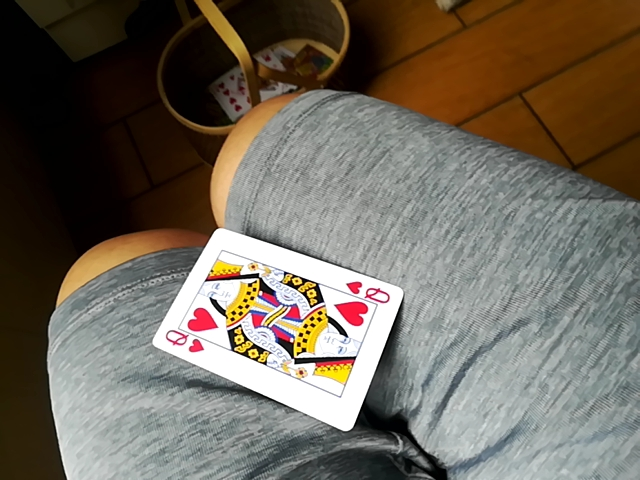hx q: (150, 228, 403, 432)
